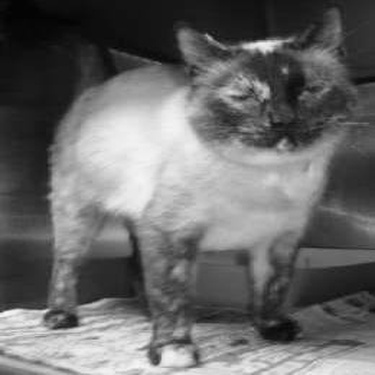cat: (24, 4, 369, 374)
